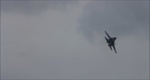maybay_muctieu: (103, 30, 121, 56)
